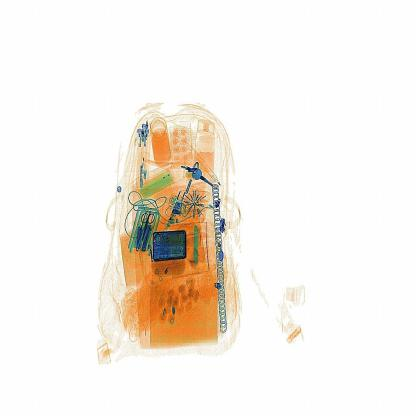scissors: (187, 219, 206, 275)
